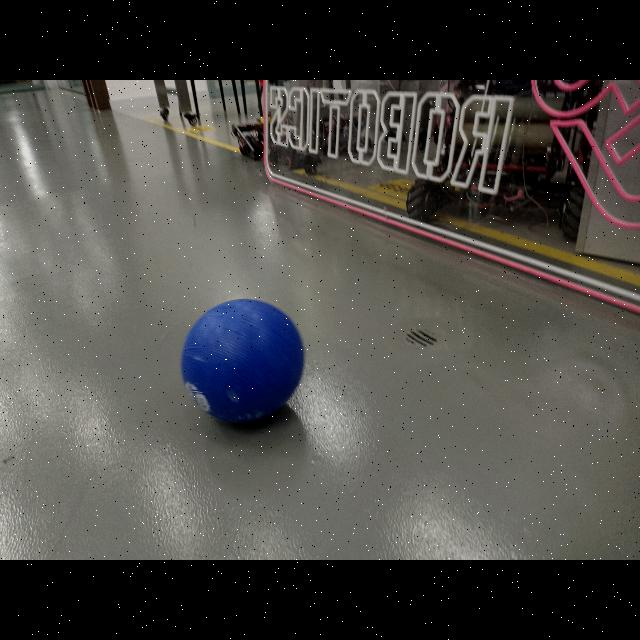B: (181, 298, 305, 422)
